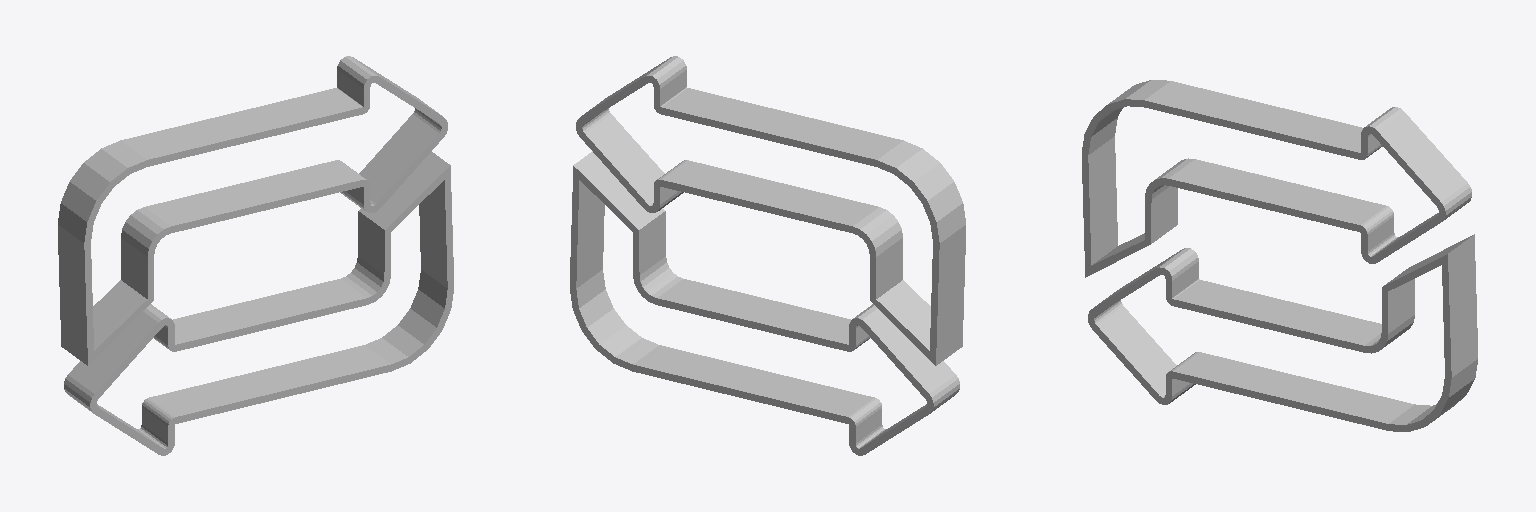
Rendered from Arrow_31.obj.
3 views of the same model, side by side, from view 1: azimuth 30°, elevation 25°; view 2: azimuth 150°, elevation 25°; view 3: azimuth 330°, elevation 25° (orthographic).
Parts seen in each view (by area): view 1: Arrow_31; view 2: Arrow_31; view 3: Arrow_31.
Boxes of the visible parts, x1,y1,x2,y2 form: Arrow_31: [58, 56, 453, 455]; Arrow_31: [570, 56, 965, 455]; Arrow_31: [1082, 80, 1477, 431].
Size of the model in its own units: 5.93 by 5.04 by 0.7423.